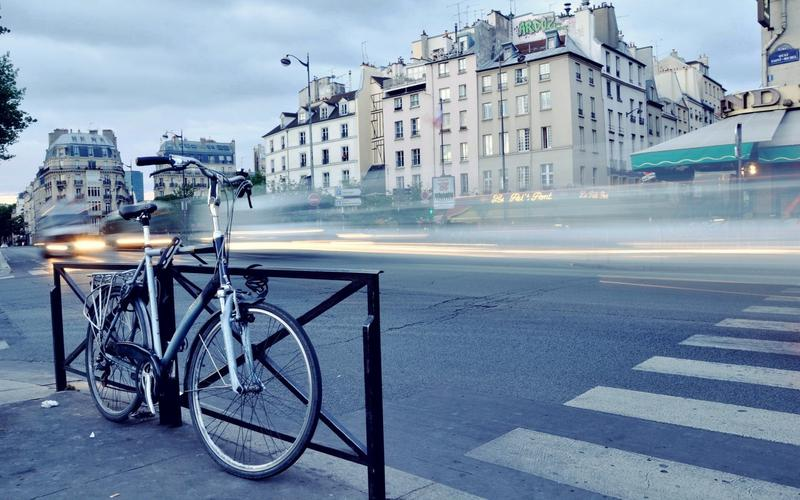单车: (50, 151, 340, 490)
